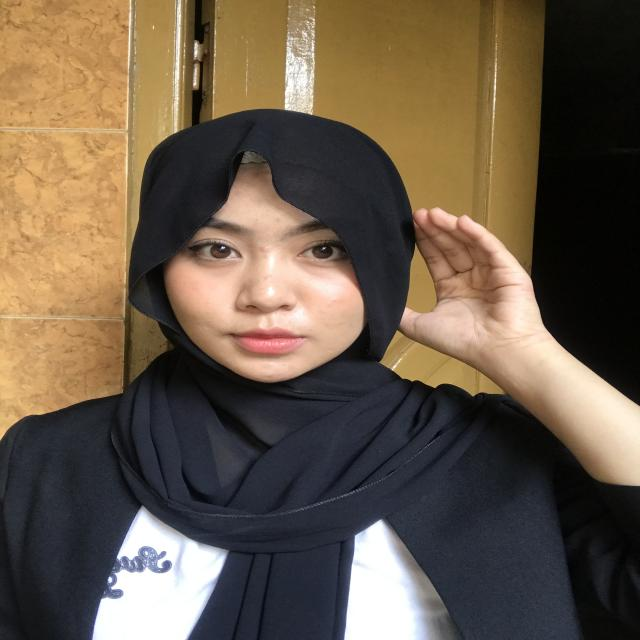mendengar: (408, 203, 552, 386)
